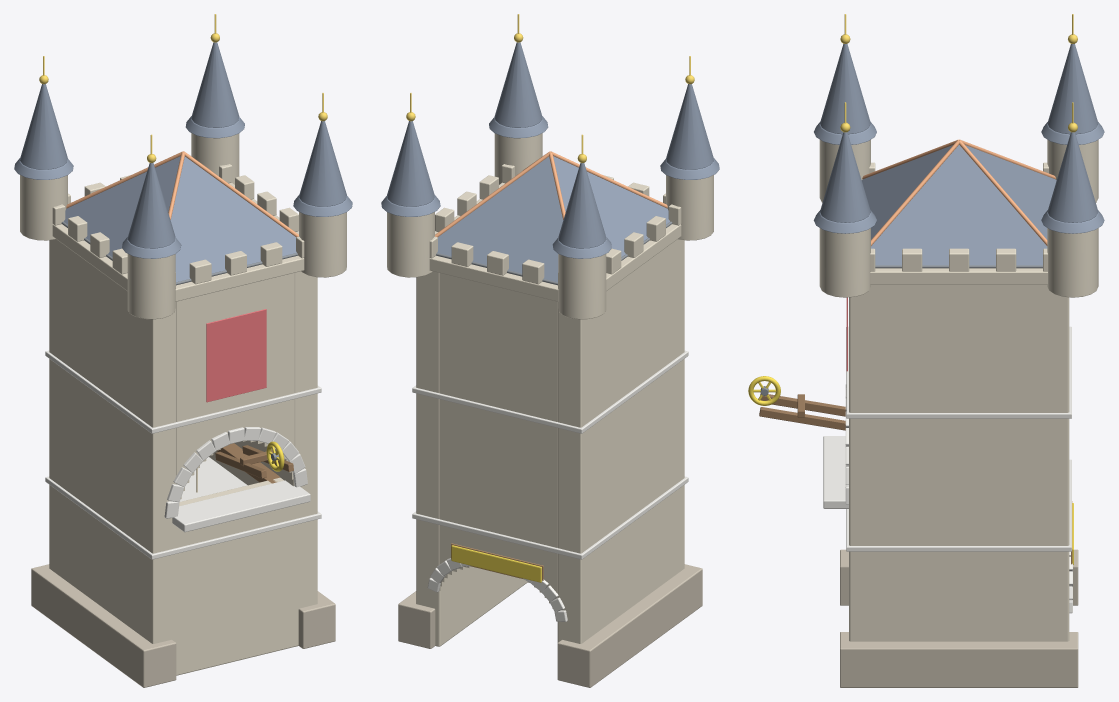
File: zip_tower.fbx
3 renders of one model, left to right at view 1: azimuth 30°, elevation 25°; view 2: azimuth 150°, elevation 25°; view 3: azimuth 270°, elevation 25°, orthographic. The views are drawn at different scales.
Visible parts, largest first — view 1: Visual; view 2: Visual; view 3: Visual, Spin_X.
Boxes of the visible parts, x1=… form: Visual: x1=14, y1=14, x2=352, y2=687; Visual: x1=381, y1=14, x2=719, y2=687; Visual: x1=759, y1=14, x2=1104, y2=687; Spin_X: x1=748, y1=376, x2=780, y2=405.
Size of what is drawn, in the model's own units: 1485 by 3490 by 1942.
